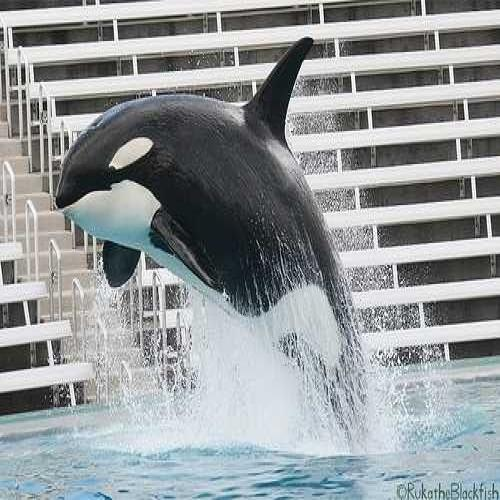killer_whale-endangered: (58, 36, 391, 450)
